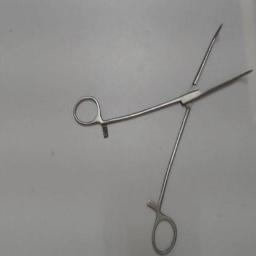Lahey Forceps: (70, 17, 256, 255)
